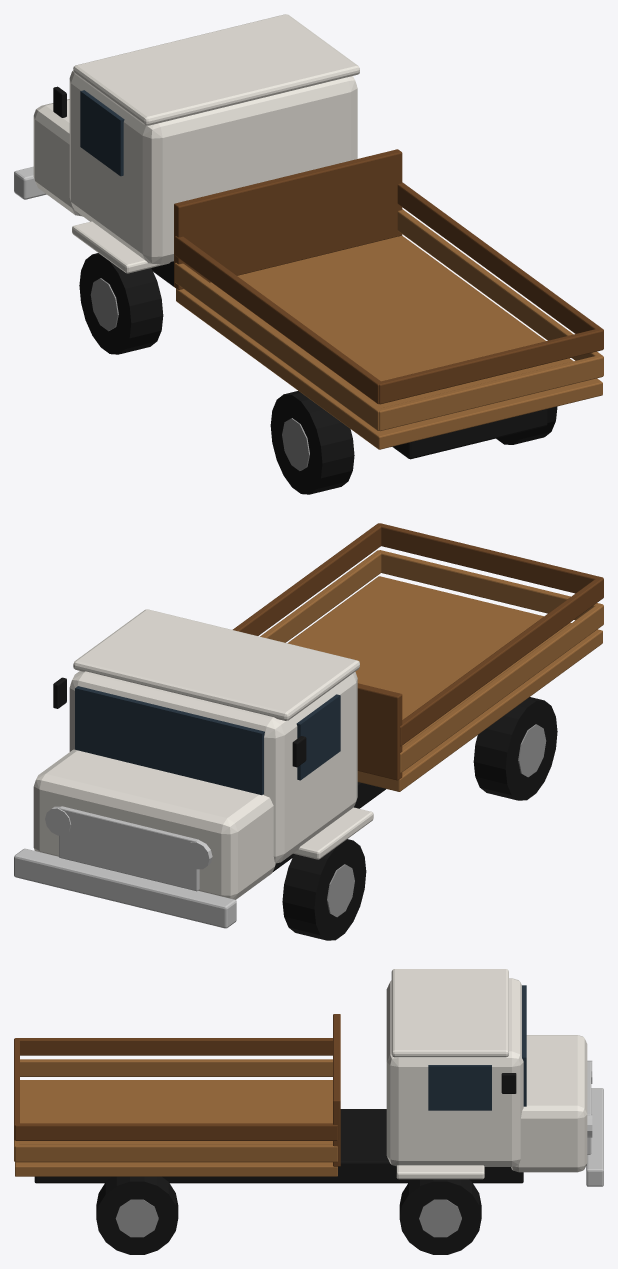
File: nakliye.glb
The picture shows the model from 3 angles, top to bottom: view 1: azimuth 30°, elevation 25°; view 2: azimuth 150°, elevation 25°; view 3: azimuth 270°, elevation 25°; orthographic projection. The views are drawn at different scales.
Parts seen in each view (by area): view 1: Ayna; view 2: Ayna; view 3: Ayna.
Boxes of the visible parts, box(x1,y1,x2,y2) form: Ayna: box(14, 14, 603, 494); Ayna: box(14, 523, 603, 940); Ayna: box(14, 969, 603, 1254).
Bounding box in the file's own units: 0.3847 × 0.3737 × 1.
